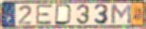2: (17, 4, 34, 26)
3: (93, 3, 110, 26), (75, 4, 91, 26)
D: (54, 3, 74, 26)
E: (35, 4, 54, 26)
M: (110, 4, 133, 26)
